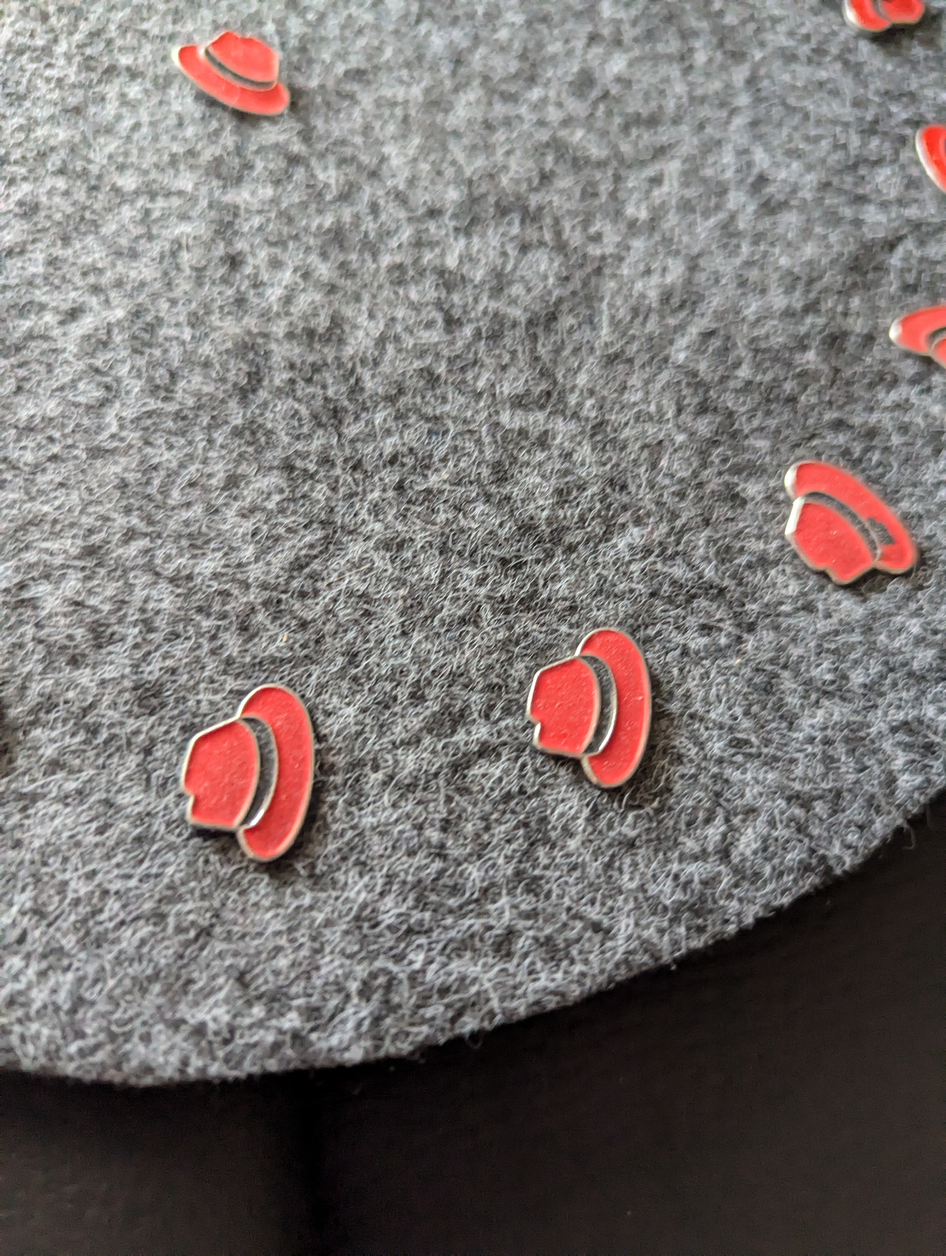Red-Hat: (153, 664, 370, 884), (746, 417, 946, 594), (511, 604, 674, 800), (134, 9, 327, 134), (825, 0, 946, 32)
Scratch: (850, 503, 900, 551)
